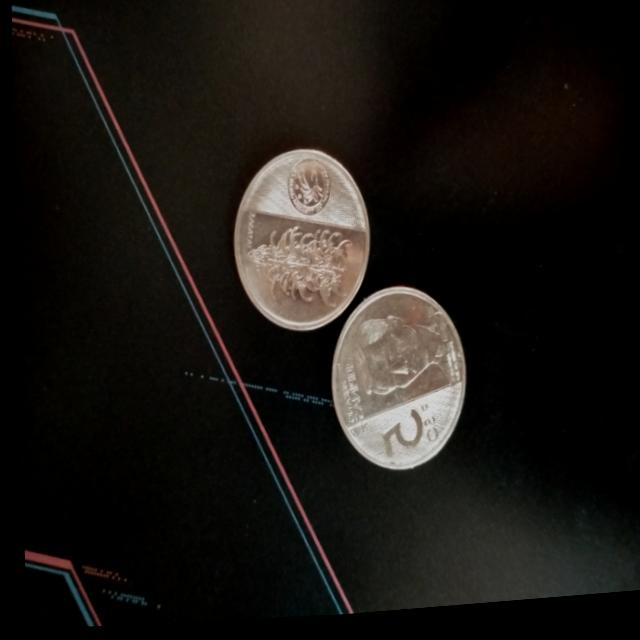5_New_Back: (233, 217, 366, 332)
5_New_Front: (368, 399, 446, 479)
